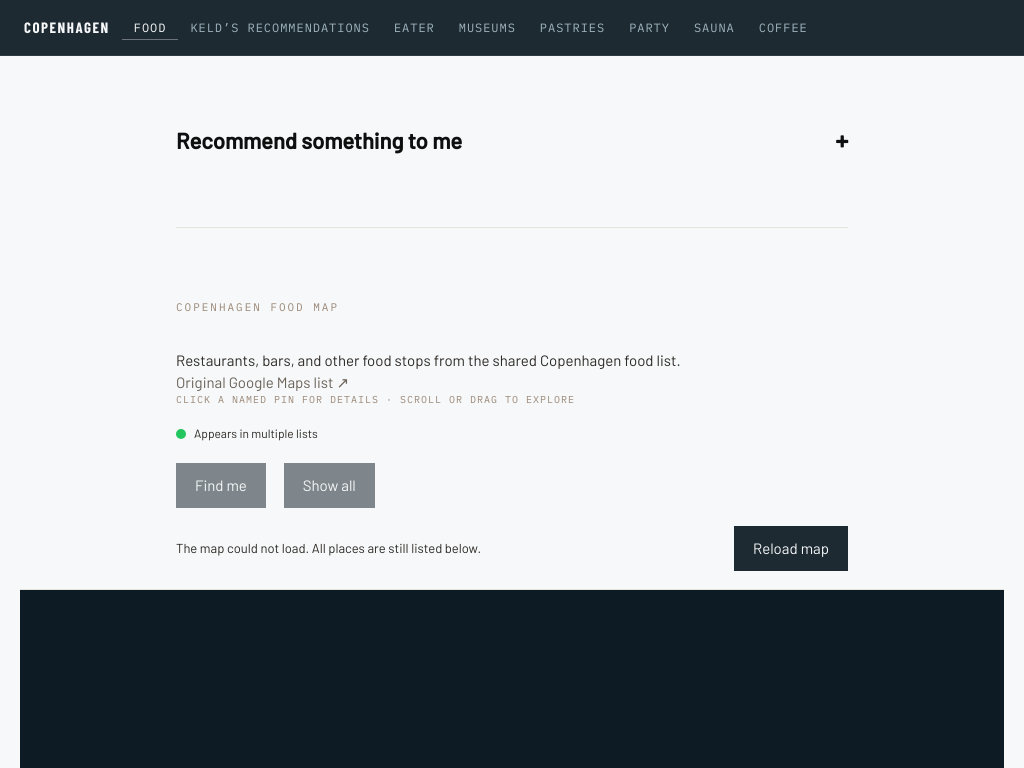
Scenario: an initialization failure can be retried
Click the button "Reload map": (791,548) [734,526,848,571]
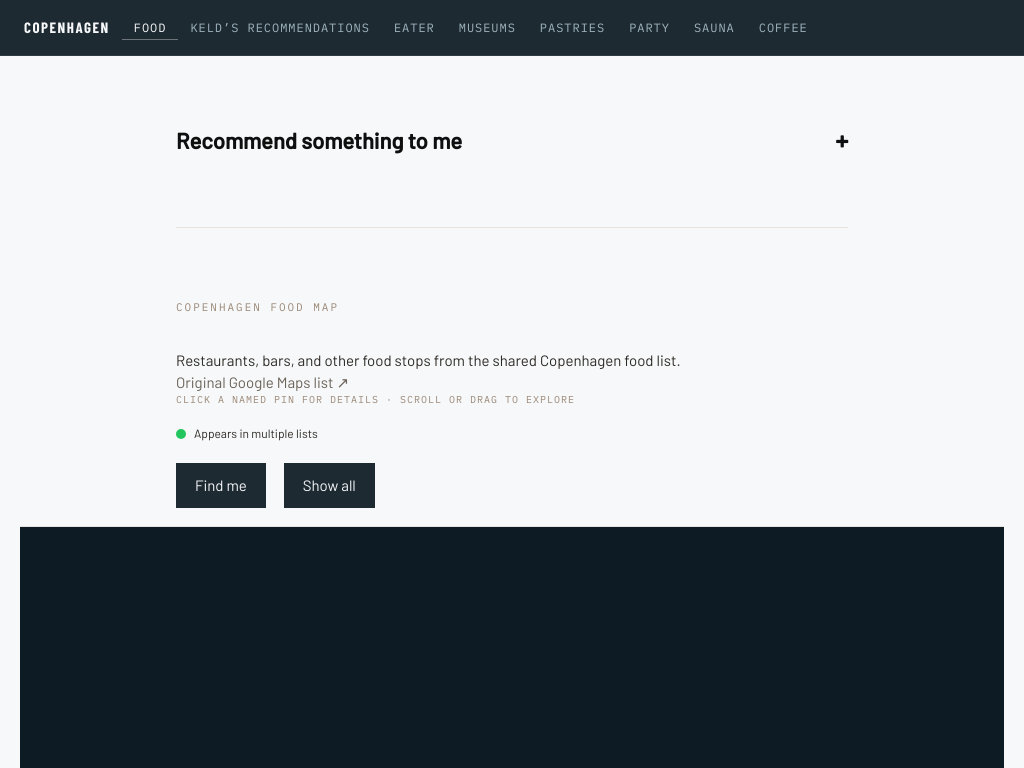
Expected: the button "Find me" is enabled, [176,463,266,508]
Expected: the button "Reload map" is gone
